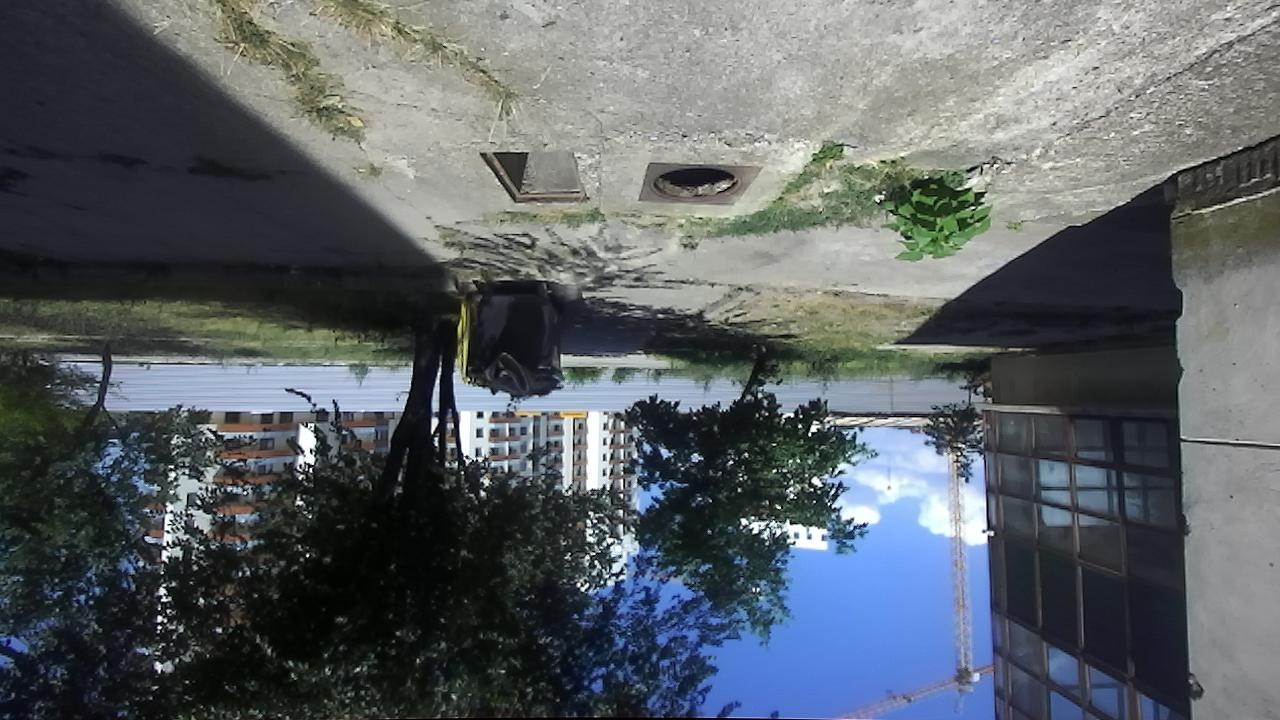drain: (474, 146, 591, 206), (650, 160, 743, 203)
